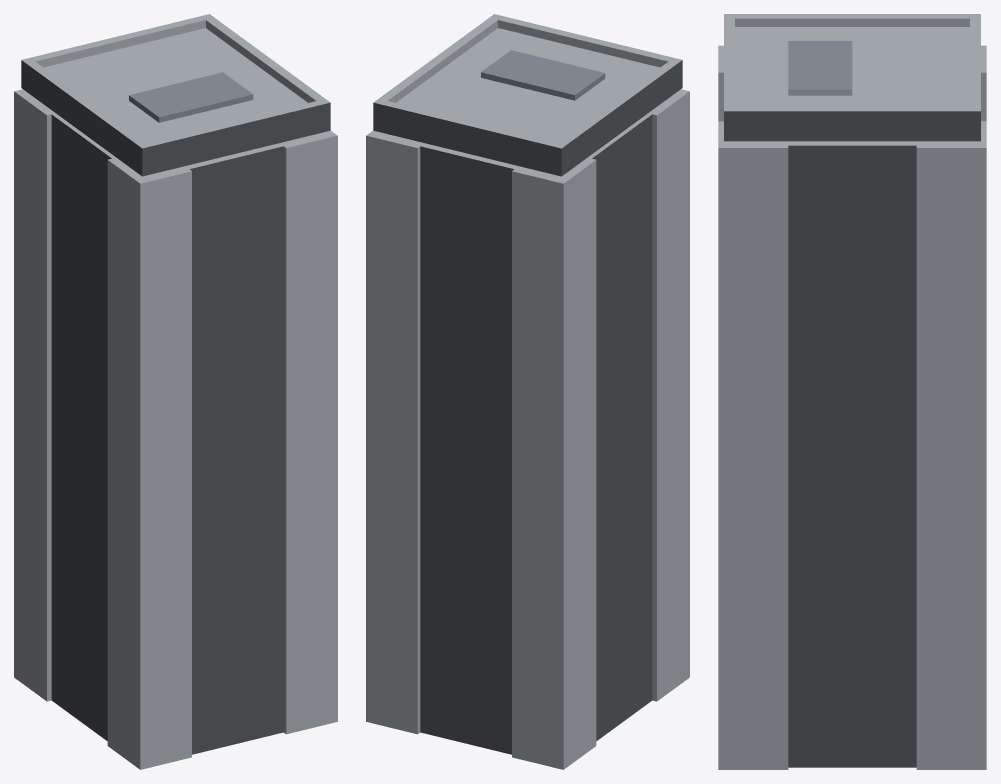
The model's file is talo9.fbx.
3 renders of one model, left to right at view 1: azimuth 30°, elevation 25°; view 2: azimuth 150°, elevation 25°; view 3: azimuth 270°, elevation 25°, orthographic. The views are drawn at different scales.
Parts seen in each view (by area): view 1: talo9; view 2: talo9; view 3: talo9.
Part boxes in pixels (x1,y1,x2,y2): talo9: (14, 14, 337, 769); talo9: (366, 14, 689, 769); talo9: (718, 14, 986, 769).
Size of the model in its own units: 161 by 483 by 179.
